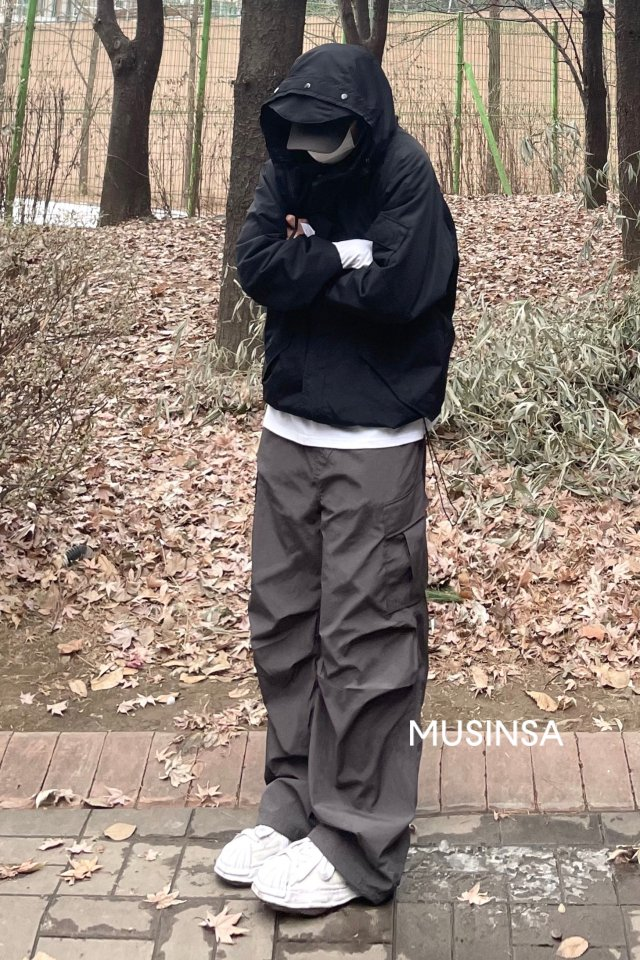Cap: (280, 116, 355, 153)
Hoodie: (238, 43, 464, 430)
Mask: (301, 133, 360, 163)
Pants: (241, 424, 423, 855)
Shoes: (211, 808, 373, 911)
